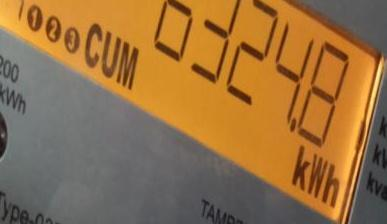.: (293, 147, 341, 209)
0: (290, 117, 299, 133)
3: (223, 0, 280, 106)
4: (187, 0, 240, 85)
5: (267, 22, 317, 124)
9: (299, 41, 350, 148)
